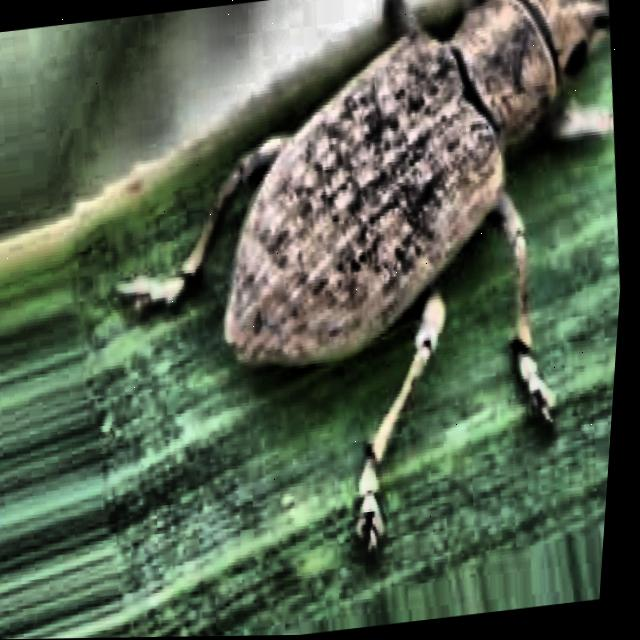Stink bug: (16, 0, 640, 639)
